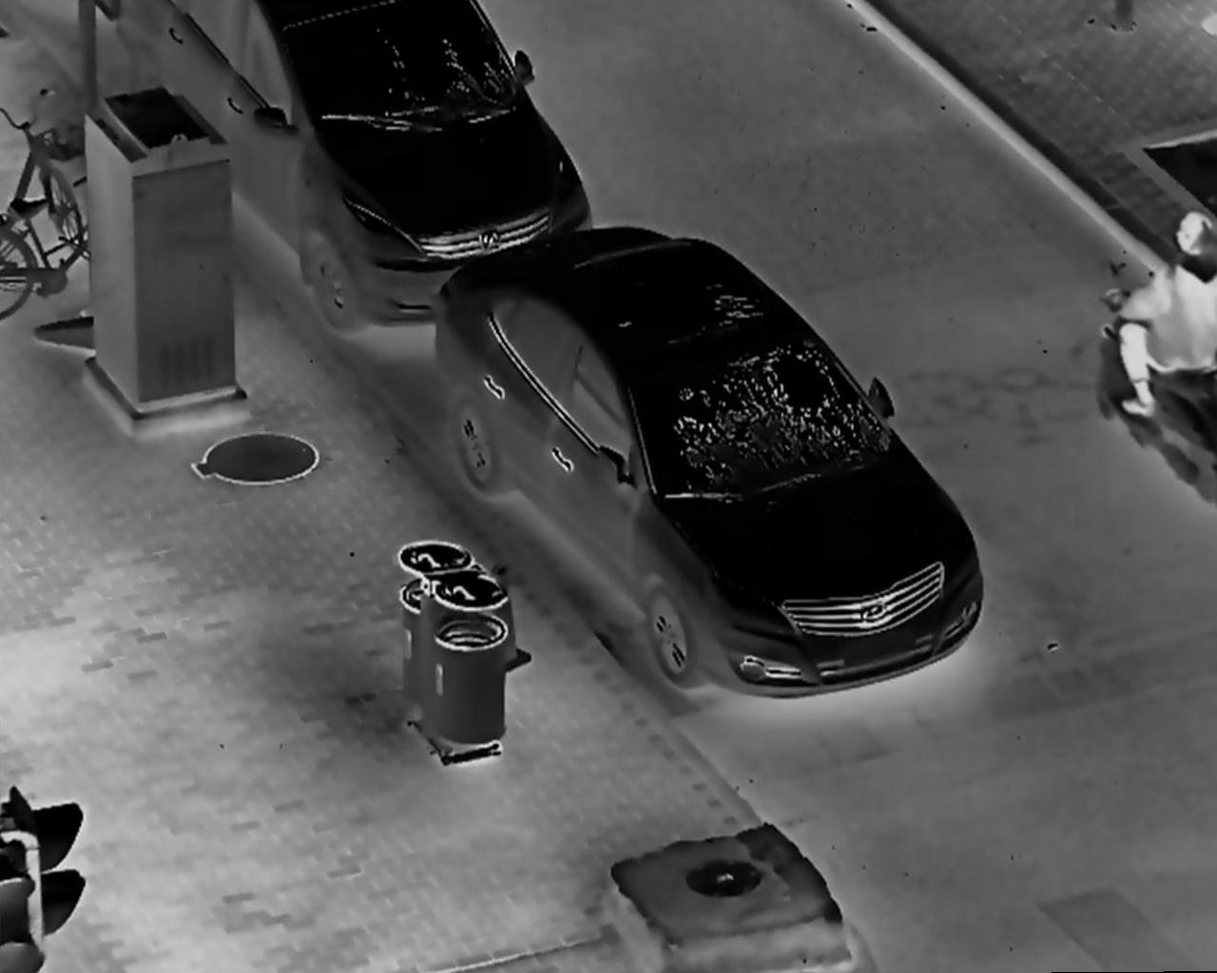person: (1123, 202, 1217, 422)
